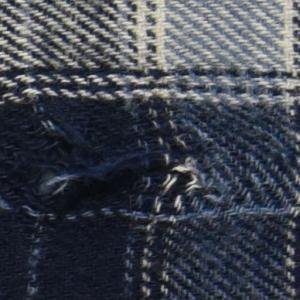Damage: (1, 85, 261, 247)
